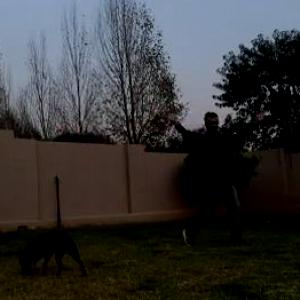takeoff: (124, 111, 246, 245)
